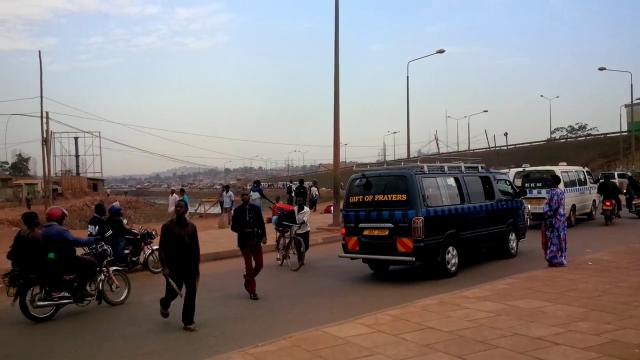motorcycle: (13, 237, 133, 322), (95, 225, 161, 277)
van: (337, 157, 529, 277), (504, 164, 599, 227), (597, 170, 638, 197)
